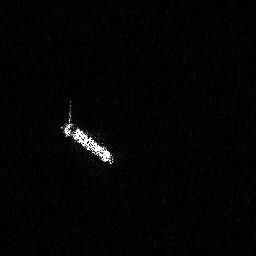ship: (57, 97, 116, 167)
